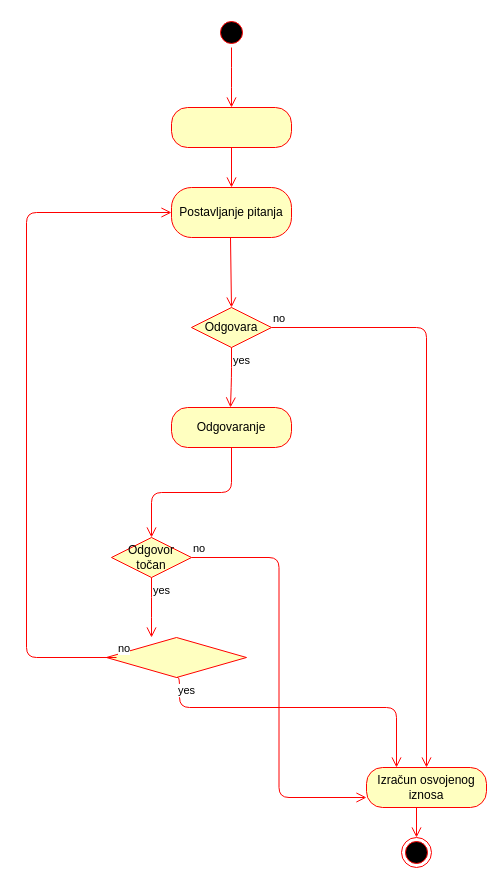
Image size: 504x885. Some labels were removed from this diagram. The centre of each missing label's shape, as x and y in pixels:
"Odgovorio na 15 pitanja" belongs at [176,657].
"Unos igrača" belongs at [231,127].
